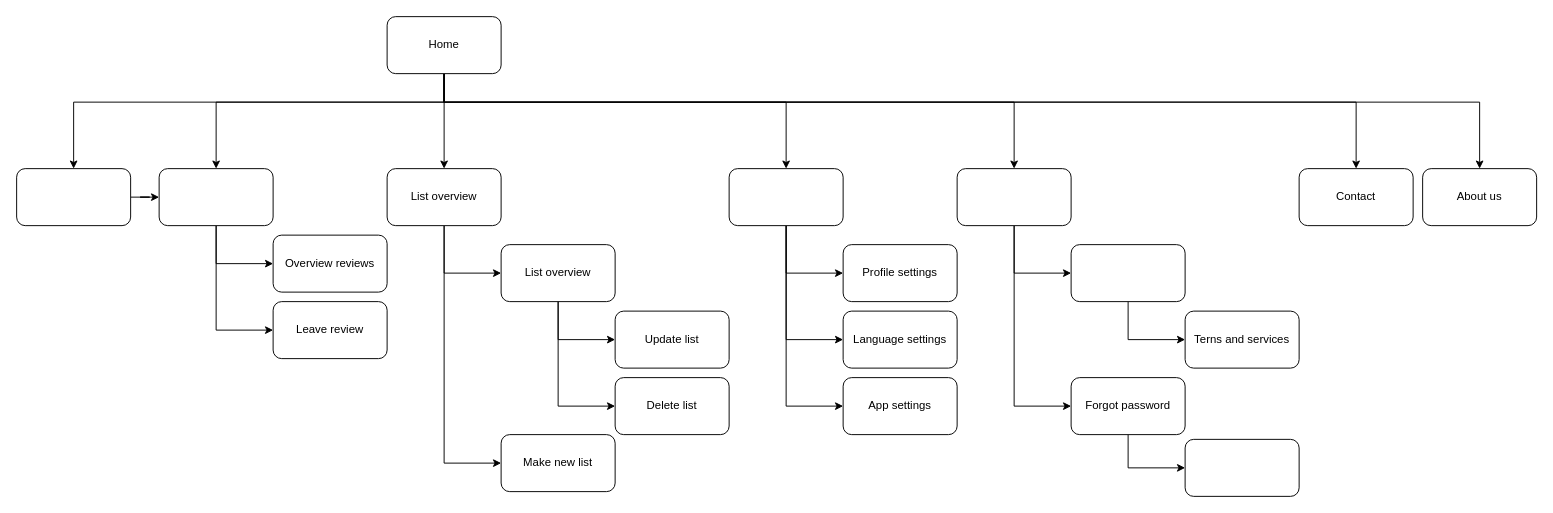
Some shapes in this 1553 by 513 pixel diagram are drawn without their labels. The centre of each missing label's shape, as x and y in pixels:
Email has been send: the point at 1241,467
Login: the point at 1013,197
Movie details: the point at 215,197
Registration: the point at 1127,273
Search results: the point at 73,197
Settings: the point at 785,197
